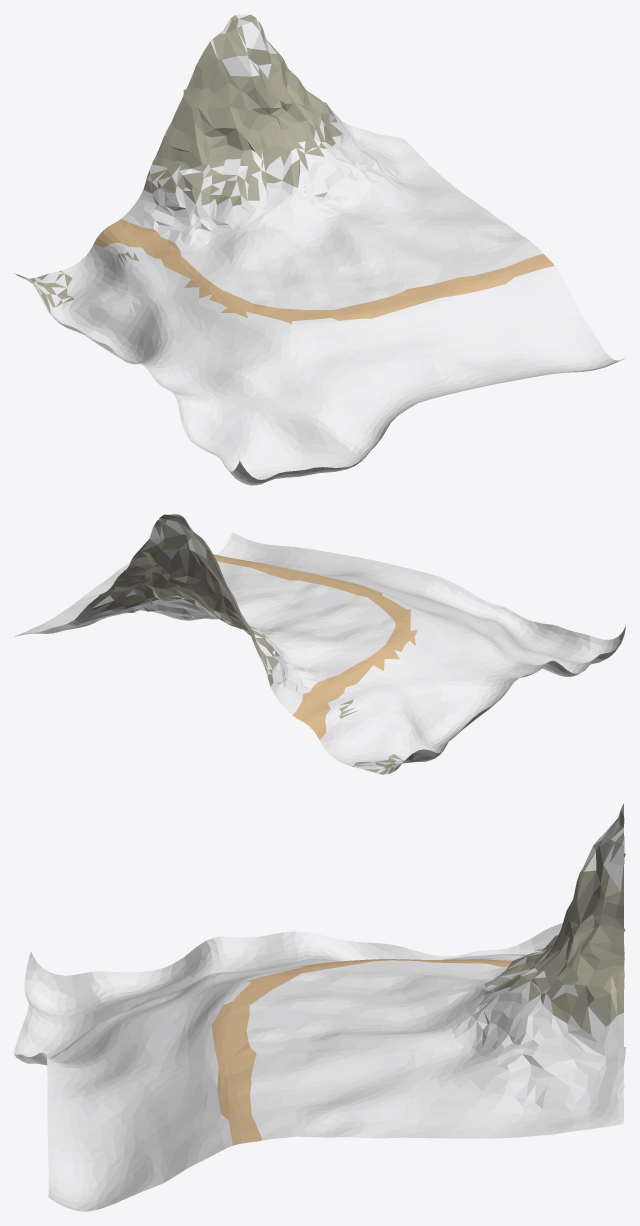
3 renders of one model, top to bottom at view 1: azimuth 30°, elevation 25°; view 2: azimuth 150°, elevation 25°; view 3: azimuth 270°, elevation 25°, orthographic. The views are drawn at different scales.
Visible parts, largest first — view 1: Plane.003; view 2: Plane.003; view 3: Plane.003.
Boxes of the visible parts, x1,y1,x2,y2 form: Plane.003: [14, 14, 624, 485]; Plane.003: [15, 514, 625, 774]; Plane.003: [14, 804, 625, 1211].
Bounding box in the file's own units: 510 × 323 × 529.
